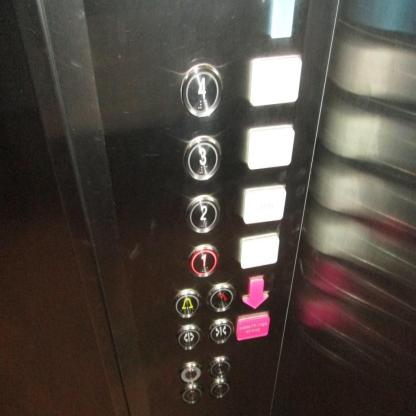1: (186, 244, 219, 277)
2: (185, 194, 220, 232)
3: (183, 135, 221, 180)
4: (180, 61, 224, 118)
alarm: (171, 287, 202, 317)
call: (206, 282, 236, 312)
close: (206, 316, 234, 343)
keyhole: (208, 354, 231, 376), (179, 361, 202, 382), (180, 383, 202, 403), (208, 379, 230, 399)
open: (174, 322, 204, 351)
